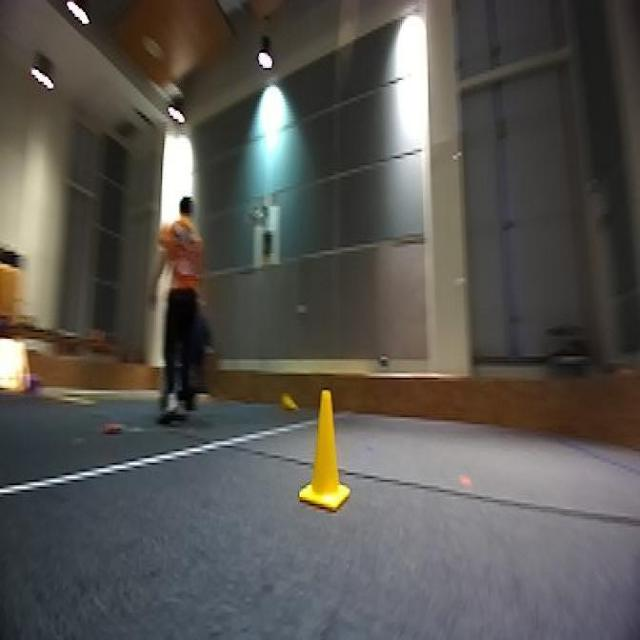frc_cone: (298, 388, 349, 507), (276, 389, 301, 414)
